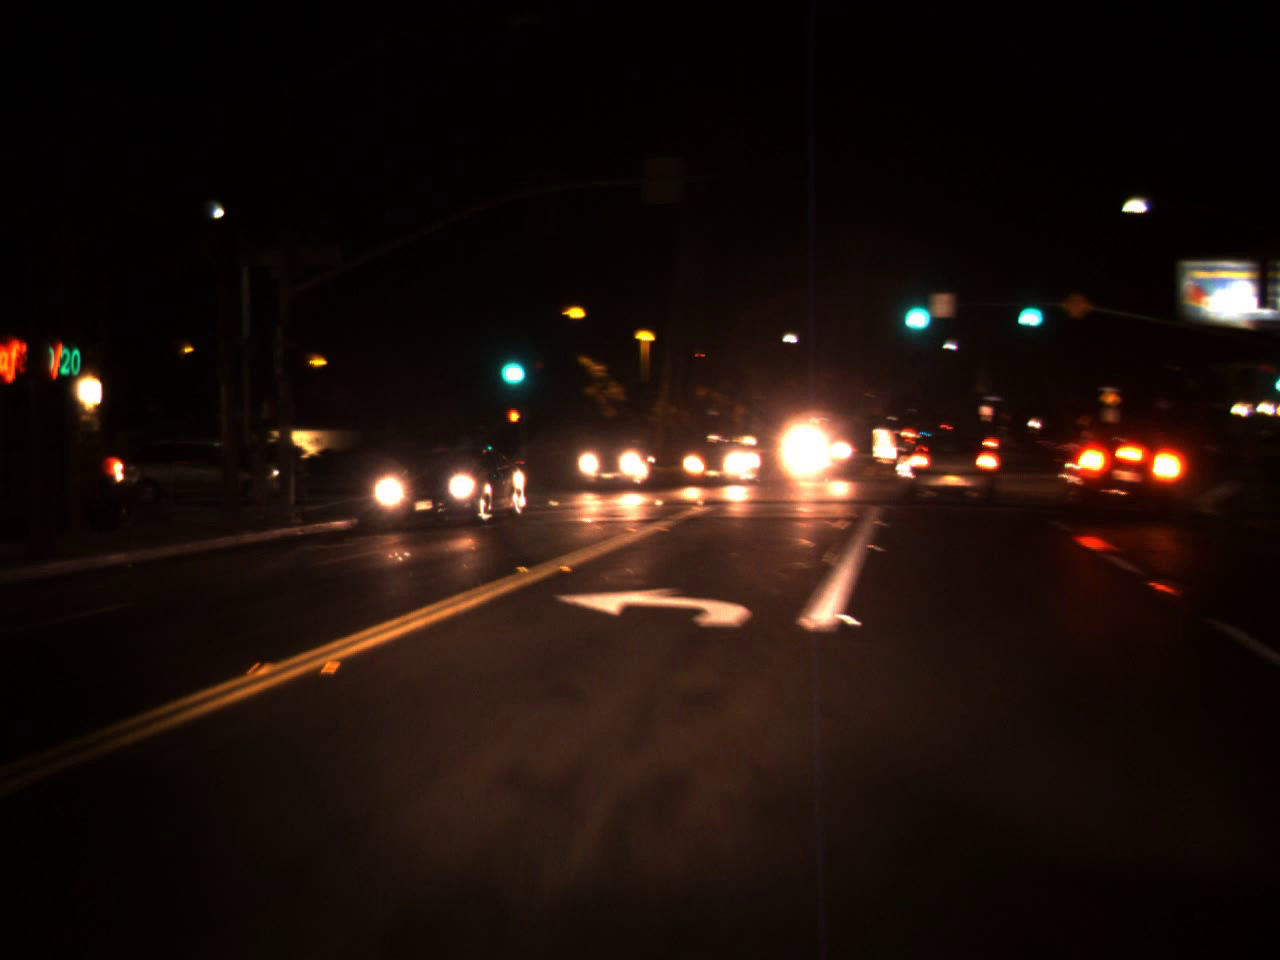go: (894, 280, 935, 337), (491, 335, 530, 392), (1007, 285, 1048, 333)
